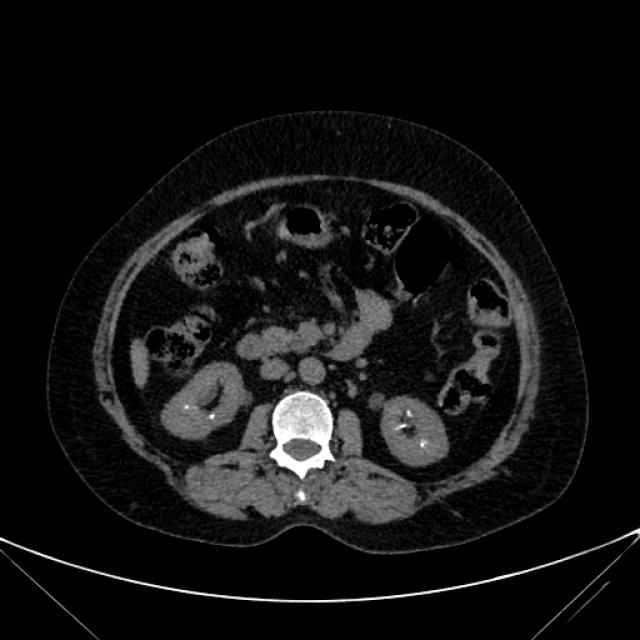kidney: (169, 368, 233, 435), (384, 403, 446, 459)
stone: (395, 425, 405, 428), (407, 411, 412, 416), (210, 415, 214, 419), (420, 442, 424, 446), (185, 406, 188, 408)
